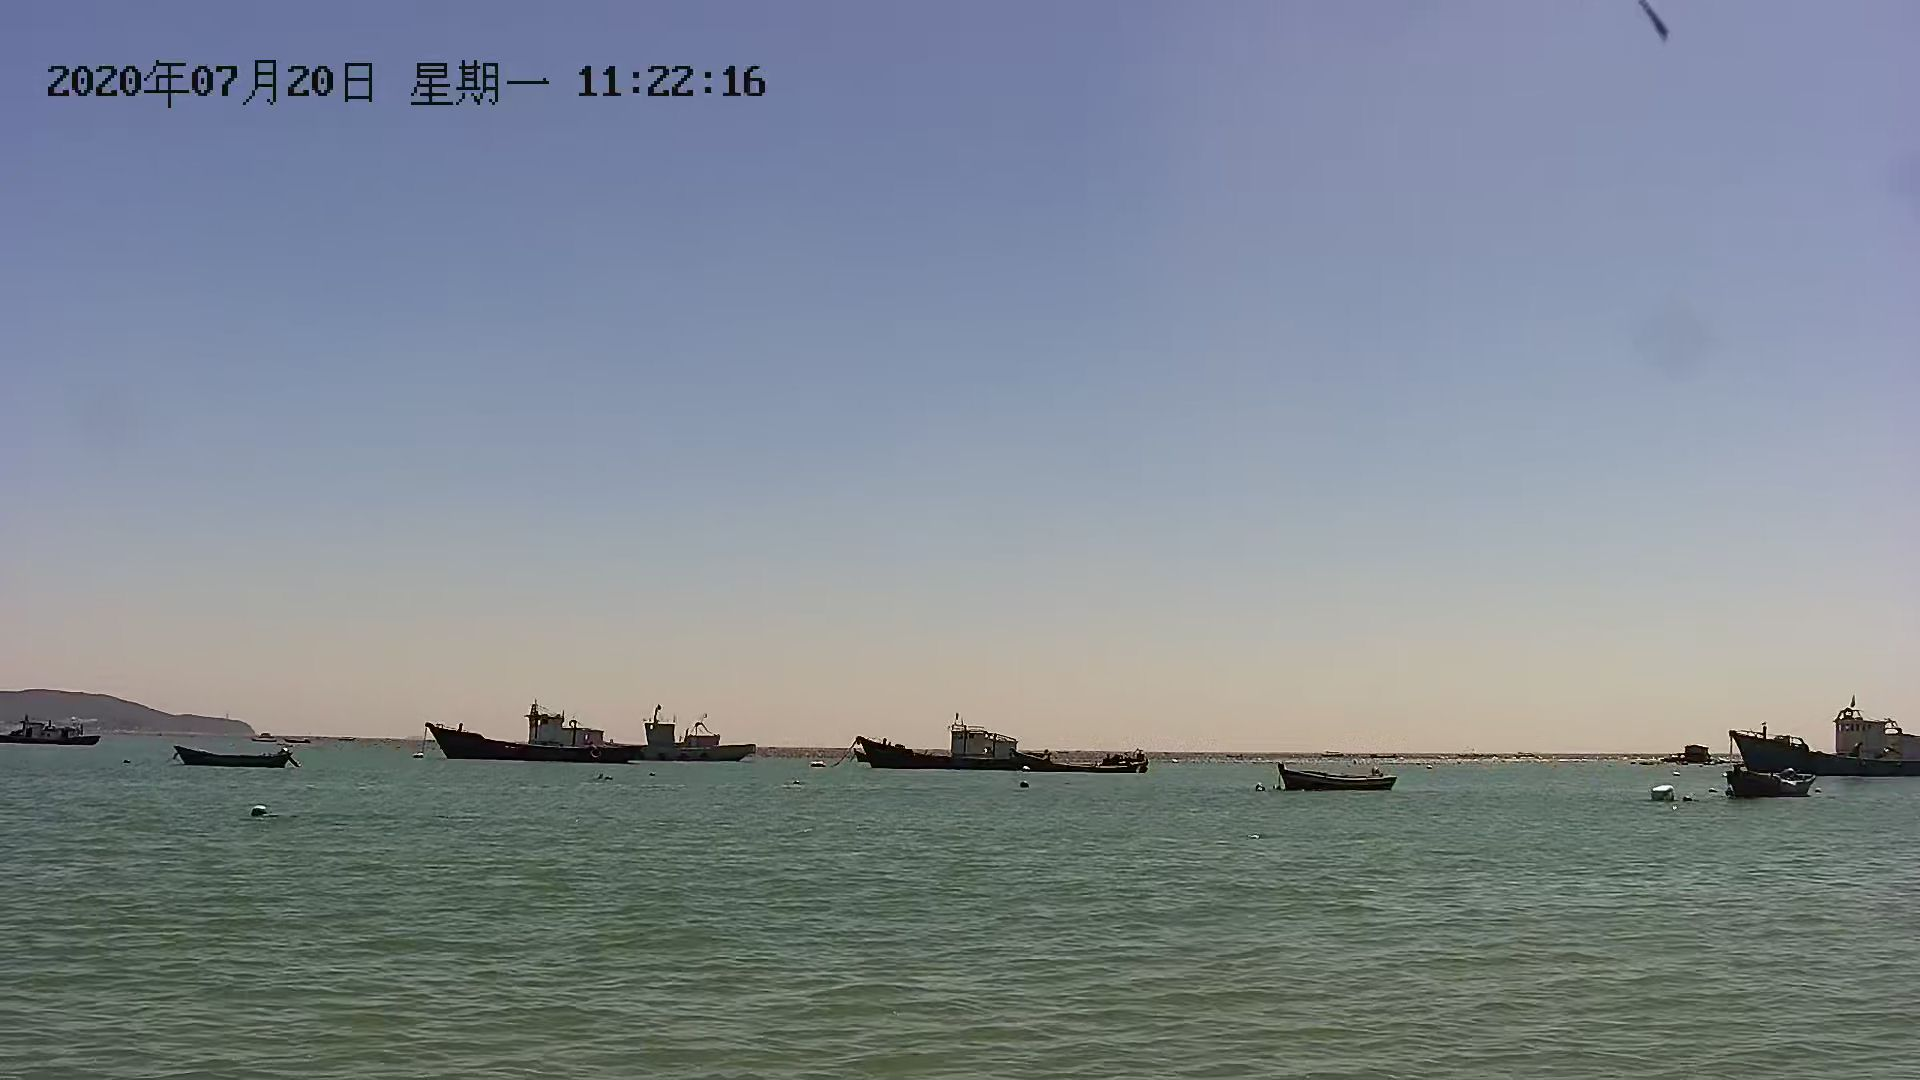ball: (243, 800, 278, 822)
boat: (1269, 756, 1399, 796), (164, 736, 295, 775), (1011, 756, 1155, 777)
rubbish: (1640, 775, 1687, 803)
ship: (1716, 698, 1920, 775), (419, 702, 636, 770), (843, 708, 1043, 778), (582, 708, 771, 769), (3, 711, 104, 754)
